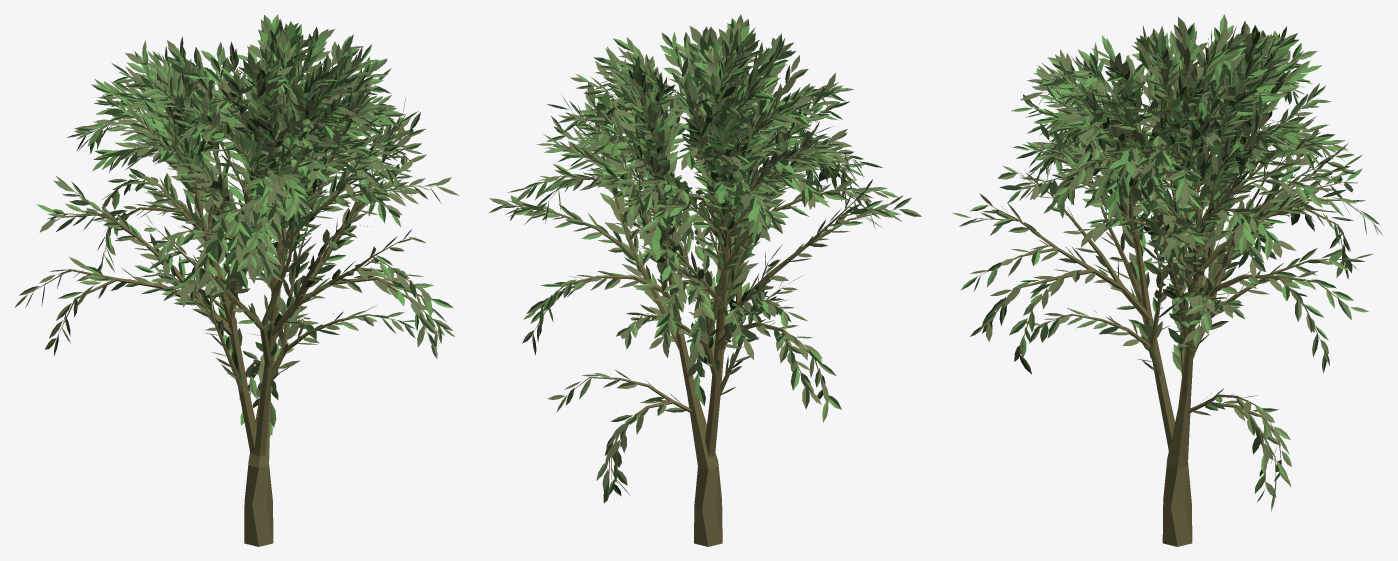
File: arvore2.fbx
The picture shows the model from 3 angles, left to right: view 1: azimuth 30°, elevation 25°; view 2: azimuth 150°, elevation 25°; view 3: azimuth 270°, elevation 25°; orthographic projection. The views are drawn at different scales.
Visible parts, largest first — view 1: leaves.001; view 2: leaves.001; view 3: leaves.001.
Boxes of the visible parts, x1,y1,x2,y2 form: leaves.001: [14, 14, 458, 546]; leaves.001: [489, 14, 921, 546]; leaves.001: [952, 14, 1382, 546].
Bounding box in the file's own units: 1043 × 1294 × 997.
